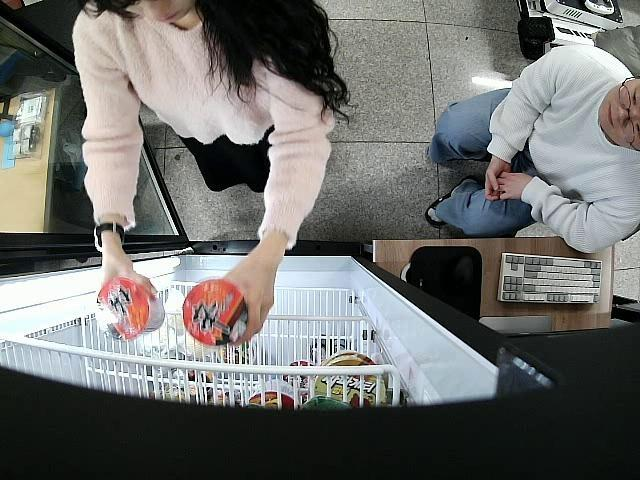02_shinRamen_S: (182, 278, 250, 346), (94, 278, 166, 341)
